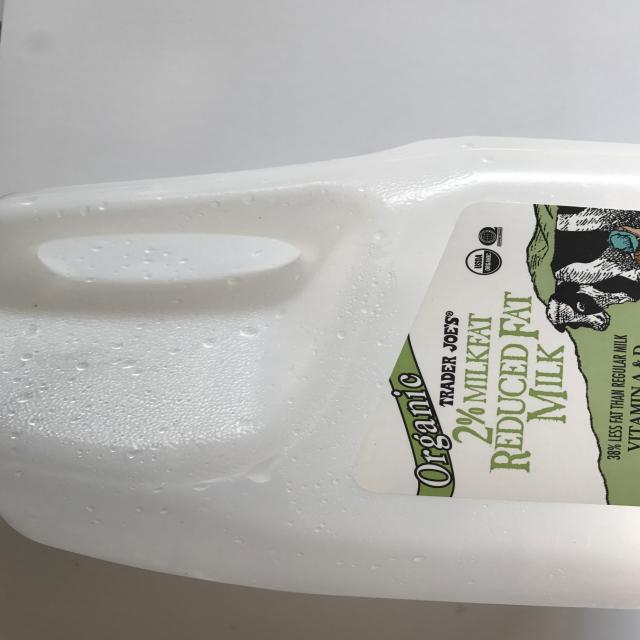plastic: (0, 134, 640, 608)
